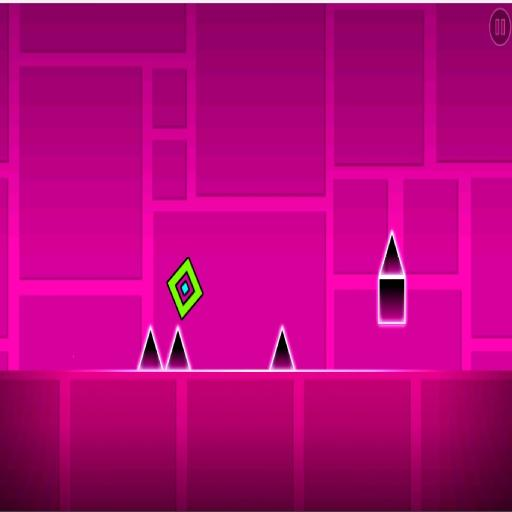block: (376, 276, 410, 328)
player: (167, 257, 202, 319)
spike: (269, 326, 295, 369), (379, 231, 402, 275), (139, 326, 161, 370), (166, 328, 189, 369)
